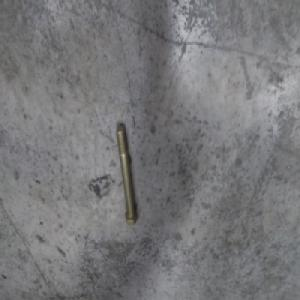Bolt: (117, 122, 138, 225)
